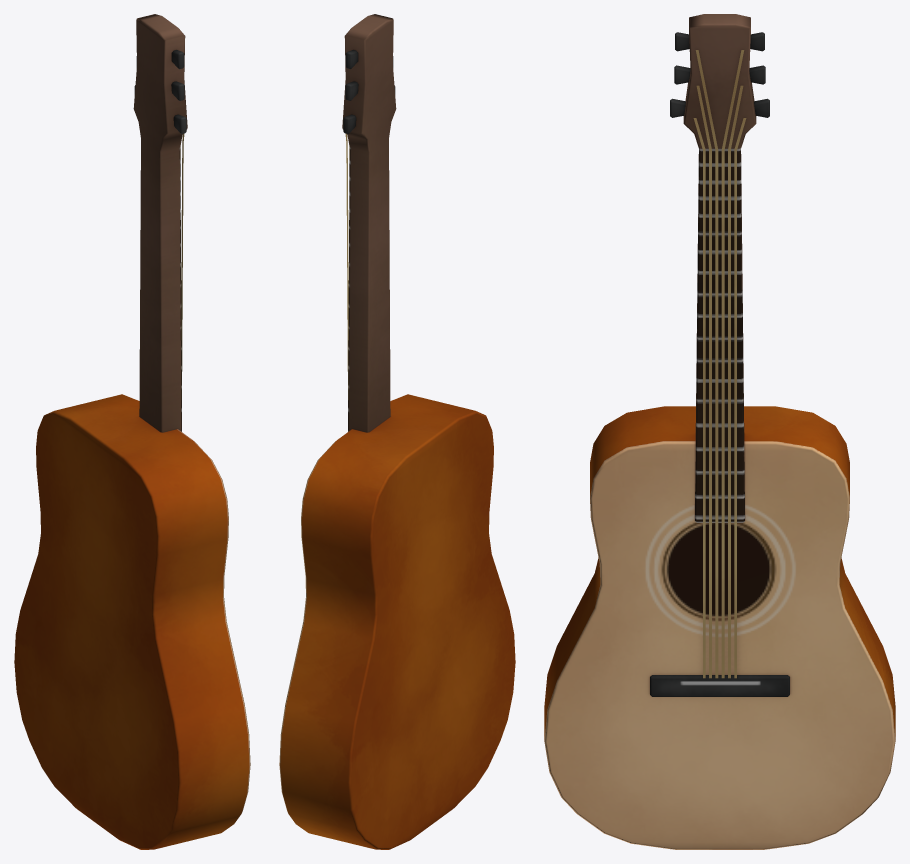
File: guitar.glb
The picture shows the model from 3 angles, left to right: view 1: azimuth 30°, elevation 25°; view 2: azimuth 150°, elevation 25°; view 3: azimuth 270°, elevation 25°; orthographic projection. The views are drawn at different scales.
Visible parts, largest first — view 1: Guitar1; view 2: Guitar1; view 3: Guitar1.
Boxes of the visible parts, x1,y1,x2,y2 form: Guitar1: (14,14,250,849); Guitar1: (279,14,515,849); Guitar1: (544,14,895,849).
Size of the model in its own units: 0.4426 by 4.2 by 1.62.
1 material, 1 textured.
